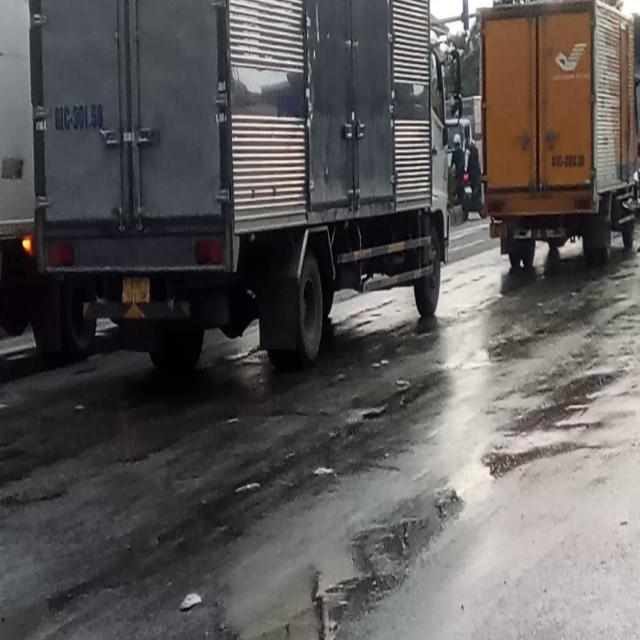bien_vang: (121, 276, 152, 308)
